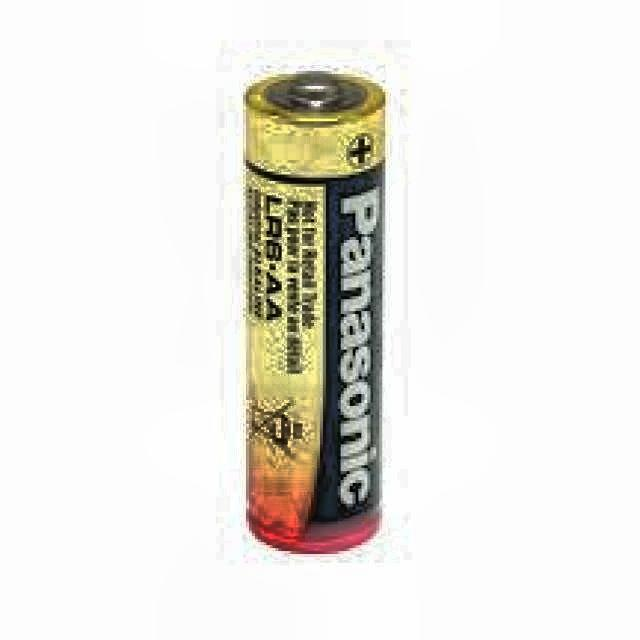Non-Valuable Waste - Batteries: (242, 71, 386, 555)
